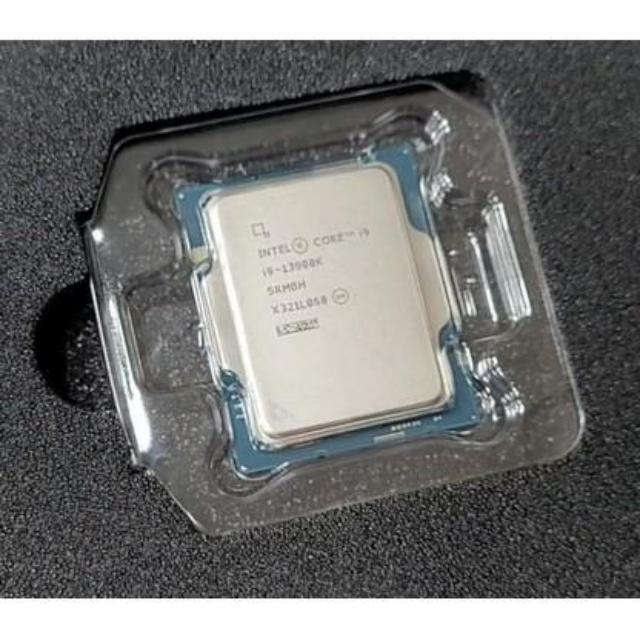CPU: (180, 152, 455, 443)
